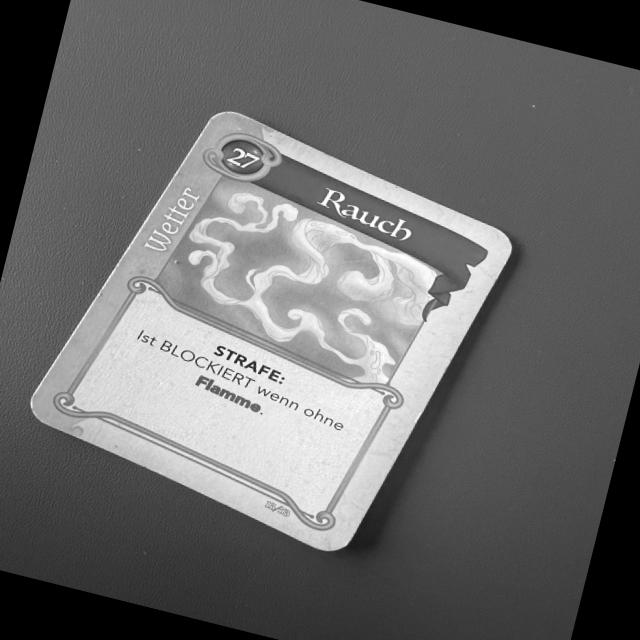Smoke: (13, 90, 522, 564)
